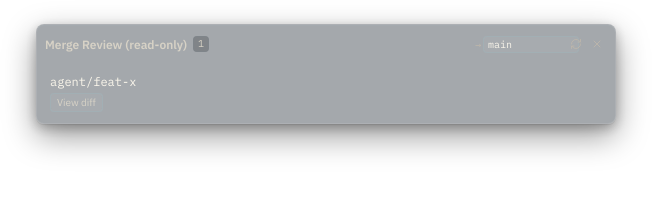
Test: MergeQueuePanel › loads the three-dot diff on demand
Click the button "View diff" at {"x": 76, "y": 102}, box [50,93,103,112]
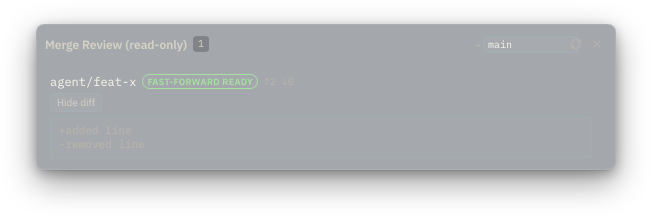
Expected: the text "+added line -removed line" is shown, [50,116,592,158]
